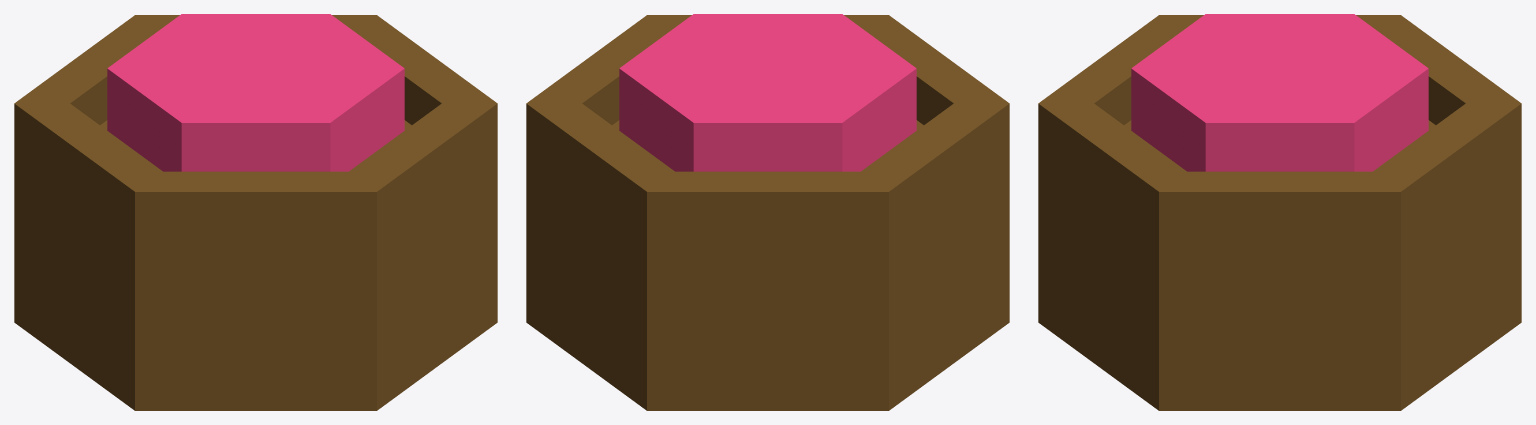
Rendered from ProtoTerrian.glb.
The picture shows the model from 3 angles, left to right: view 1: azimuth 30°, elevation 25°; view 2: azimuth 150°, elevation 25°; view 3: azimuth 270°, elevation 25°; orthographic projection.
Parts seen in each view (by area): view 1: baseHex-col, biomeHex-col; view 2: baseHex-col, biomeHex-col; view 3: baseHex-col, biomeHex-col.
Boxes of the visible parts, bbox=[...] form: baseHex-col: bbox=[14, 15, 497, 410]; biomeHex-col: bbox=[107, 14, 404, 171]; baseHex-col: bbox=[526, 15, 1009, 410]; biomeHex-col: bbox=[619, 14, 916, 171]; baseHex-col: bbox=[1038, 15, 1521, 410]; biomeHex-col: bbox=[1131, 14, 1428, 171].
Size of the model in its own units: 1.73 by 1.16 by 2.
